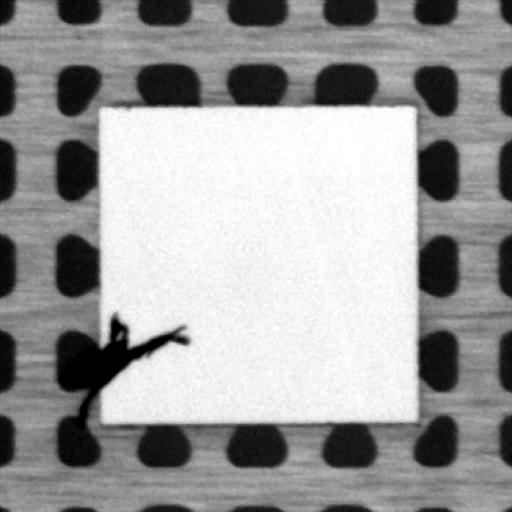DIE_INK: (99, 310, 191, 386)
